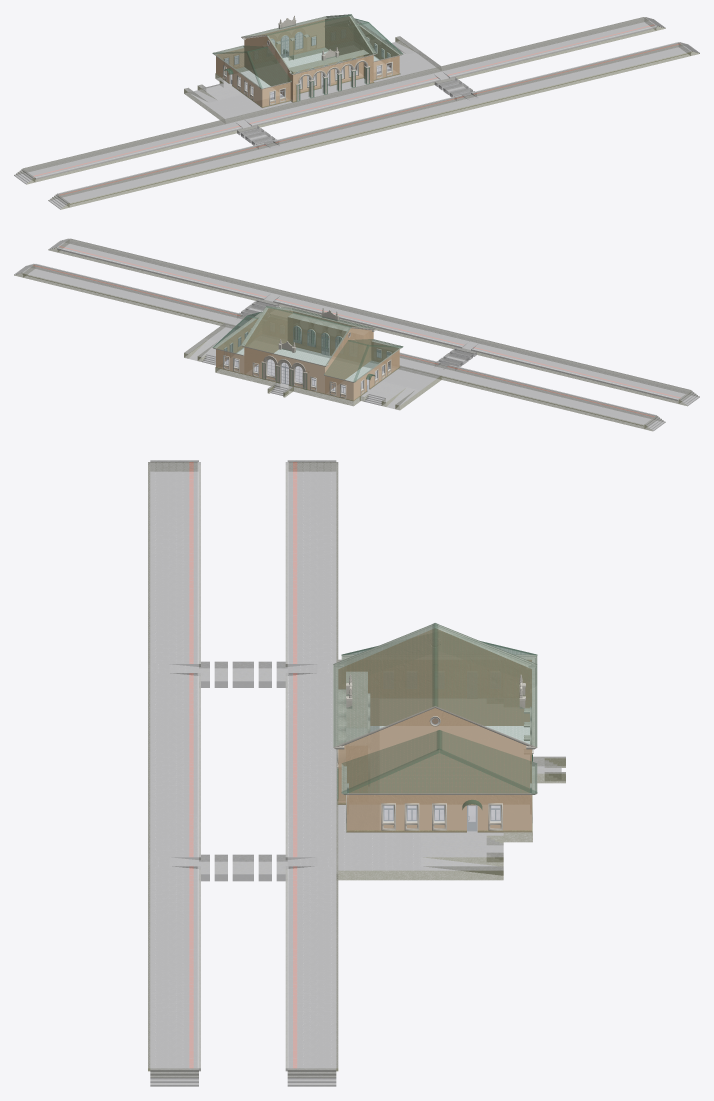
Rendered from Train_station_prj_4072_15_Stucco_walls.glb.
3 views of the same model, one above another, from view 1: azimuth 30°, elevation 25°; view 2: azimuth 150°, elevation 25°; view 3: azimuth 270°, elevation 25° (orthographic). The views are drawn at different scales.
Visible parts, largest first — view 1: 4072_0; view 2: 4072_0; view 3: 4072_0.
Boxes of the visible parts, left/top/right/bottom form: 4072_0: left=14, top=14, right=699, bottom=209; 4072_0: left=14, top=238, right=699, bottom=431; 4072_0: left=148, top=460, right=565, bottom=1086.
Bounding box in the file's own units: 140 × 11.53 × 39.5.
1 material, 1 textured.
